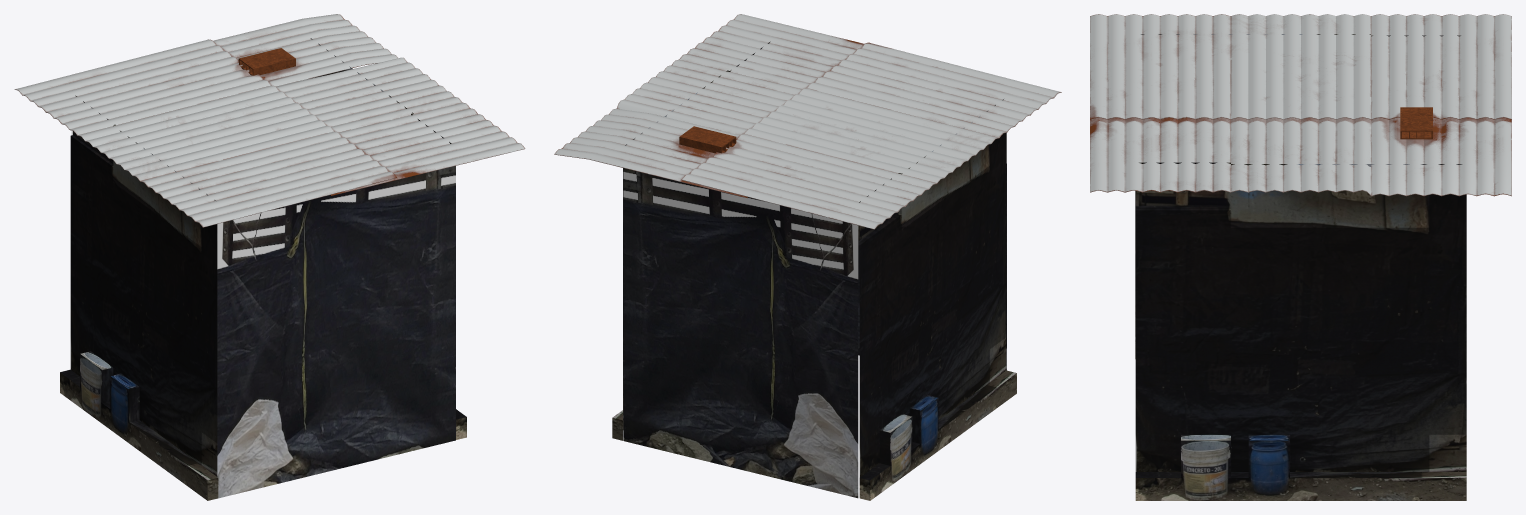
The model's file is casa_derecha_14.fbx.
3 views of the same model, side by side, from view 1: azimuth 30°, elevation 25°; view 2: azimuth 150°, elevation 25°; view 3: azimuth 270°, elevation 25° (orthographic). The views are drawn at different scales.
Visible parts, largest first — view 1: casa_derecha_14.001, Techo 14, casa_derecha_14.002; view 2: casa_derecha_14.003, Techo 14, casa_derecha_14.002, casa_derecha_14; view 3: casa_derecha_14, Techo 14.
Boxes of the visible parts, x1,y1,x2,y2 form: casa_derecha_14.001: [217, 166, 455, 498]; Techo 14: [14, 14, 525, 227]; casa_derecha_14.002: [60, 95, 218, 500]; casa_derecha_14.003: [623, 168, 858, 498]; Techo 14: [554, 14, 1061, 229]; casa_derecha_14.002: [858, 99, 1016, 500]; casa_derecha_14: [612, 41, 770, 440]; casa_derecha_14: [1135, 162, 1466, 500]; Techo 14: [1090, 14, 1511, 196].
Bounding box in the file's own units: 385 × 348 × 389.
